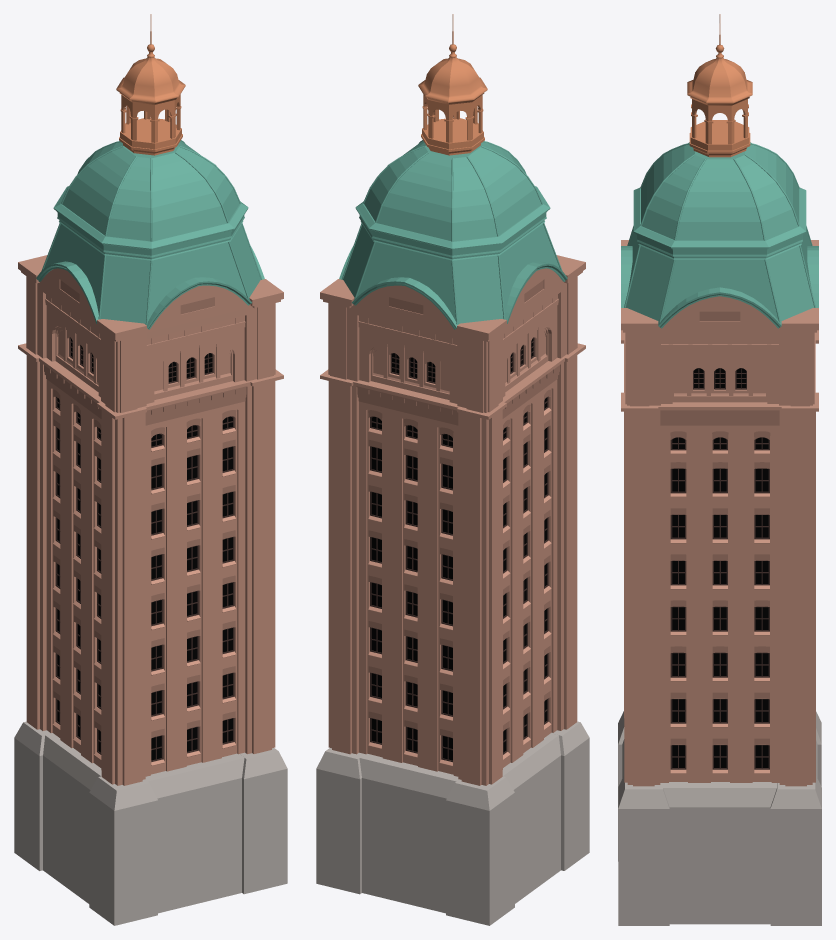
Rendered from tower3_1.fbx.
The picture shows the model from 3 angles, left to right: view 1: azimuth 30°, elevation 25°; view 2: azimuth 150°, elevation 25°; view 3: azimuth 270°, elevation 25°; orthographic projection.
Parts seen in each view (by area): view 1: Unity_Export_Mesh; view 2: Unity_Export_Mesh; view 3: Unity_Export_Mesh.
Part boxes in pixels (x1,y1,x2,y2): Unity_Export_Mesh: (14,14,287,925); Unity_Export_Mesh: (316,14,589,925); Unity_Export_Mesh: (618,14,821,925).
Size of the model in its own units: 253 by 1189 by 253.
